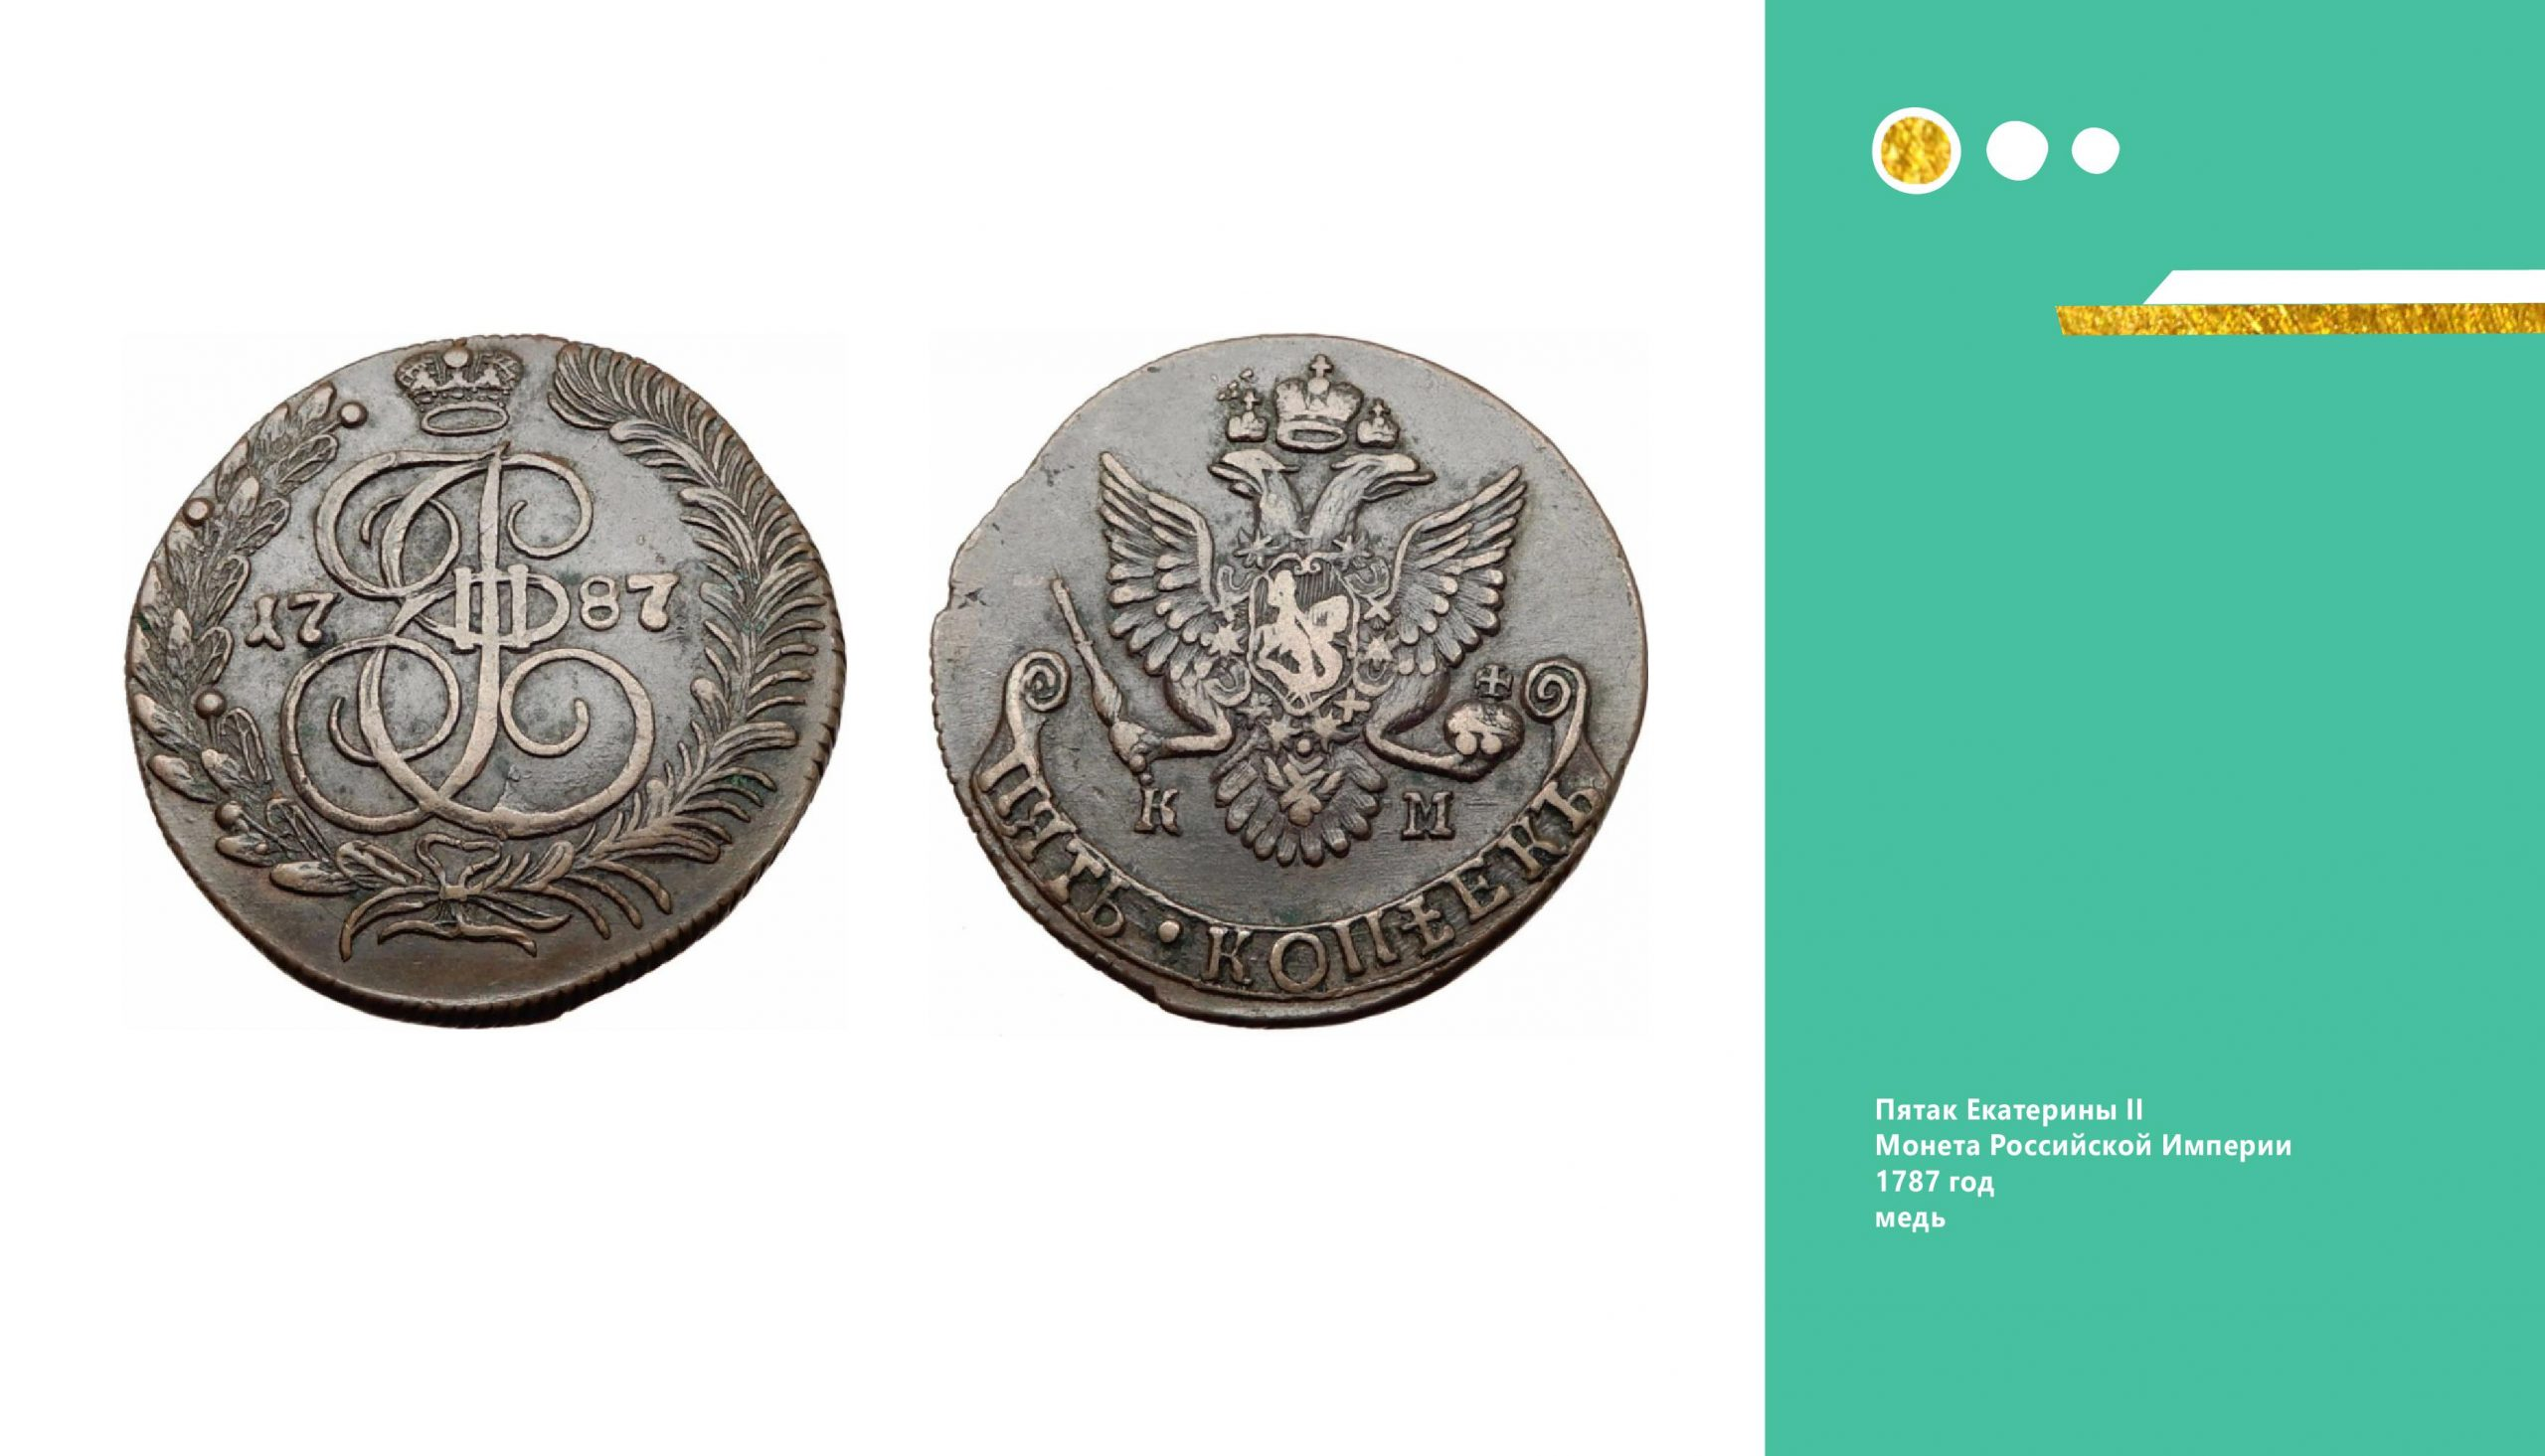coin: (925, 330, 1655, 1031), (117, 329, 844, 1031)
